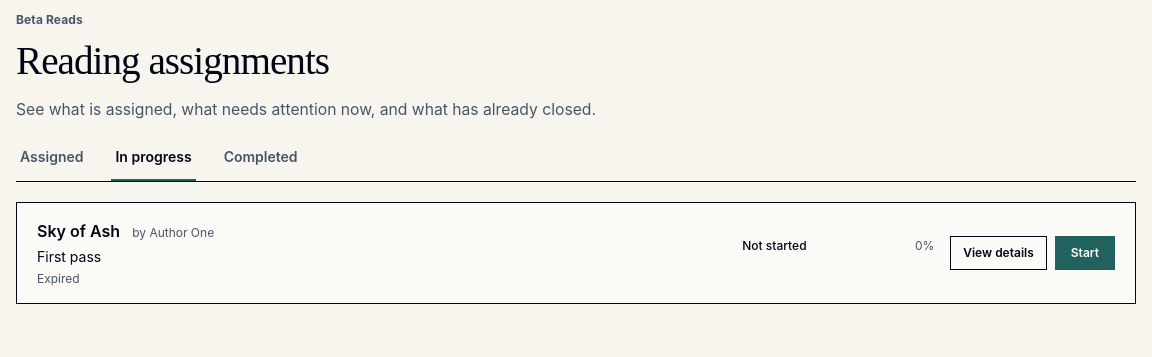
it: BetaReadsPage › explains when starting an assignment cannot be confirmed
Click the button "Start" at point(1085, 253), box top-left (1055, 236), bottom-right (1115, 270)
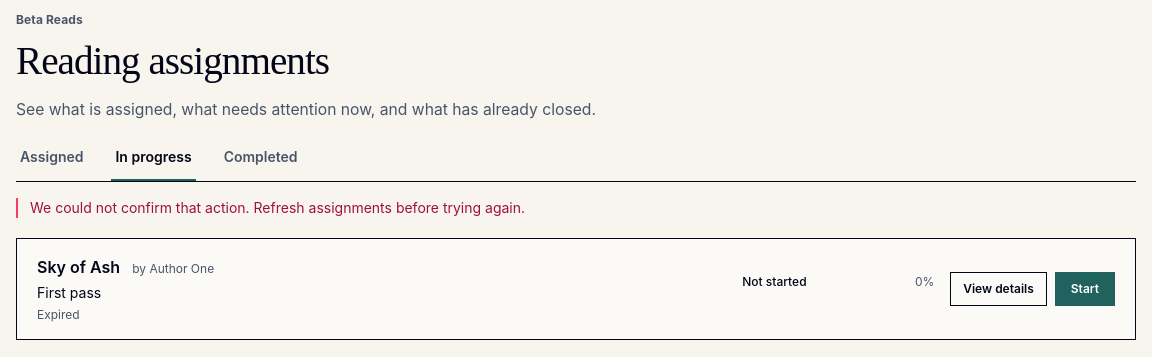
Expected: the text "We could not confirm that action. Refresh assignments before trying again." is shown, top-left (16, 198), bottom-right (1136, 218)
